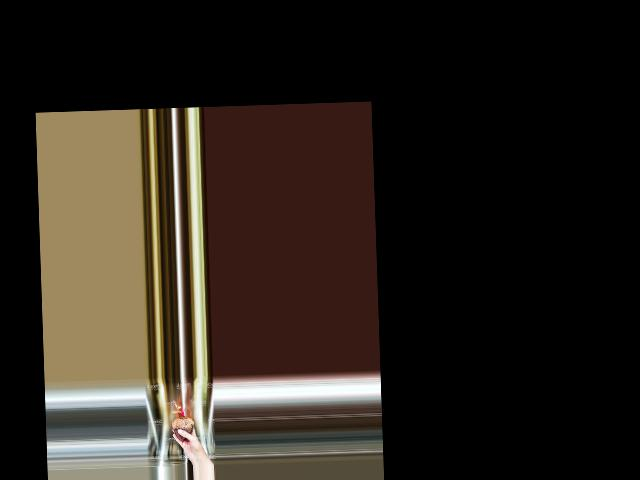beet: (170, 400, 194, 441)
